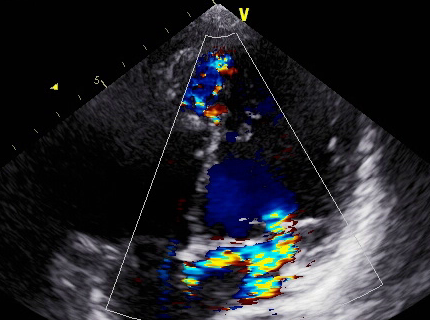MR: (208, 208, 317, 278)
